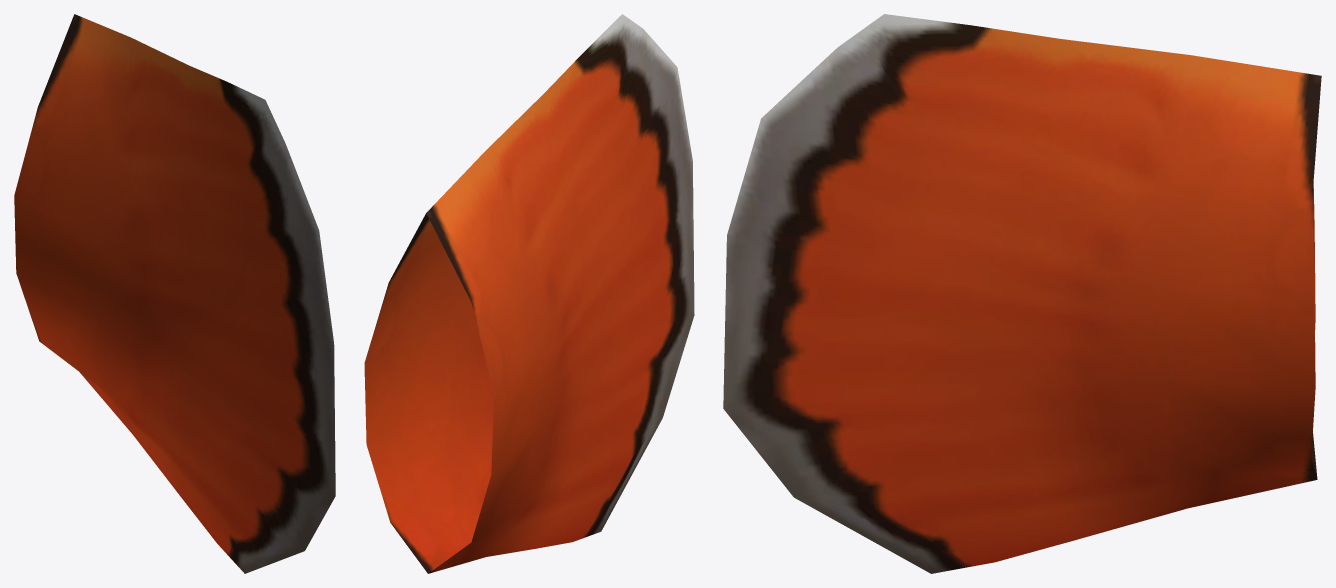
File: cola.obj
The picture shows the model from 3 angles, left to right: view 1: azimuth 30°, elevation 25°; view 2: azimuth 150°, elevation 25°; view 3: azimuth 270°, elevation 25°; orthographic projection. The views are drawn at different scales.
Parts seen in each view (by area): view 1: polySurface38; view 2: polySurface38; view 3: polySurface38.
Part boxes in pixels (x1,y1,x2,y2): polySurface38: [14, 14, 335, 573]; polySurface38: [364, 14, 694, 573]; polySurface38: [723, 14, 1321, 573].
Bounding box in the file's own units: 0.6149 × 2.27 × 2.2.
Materials: 1 (1 with a texture image).
